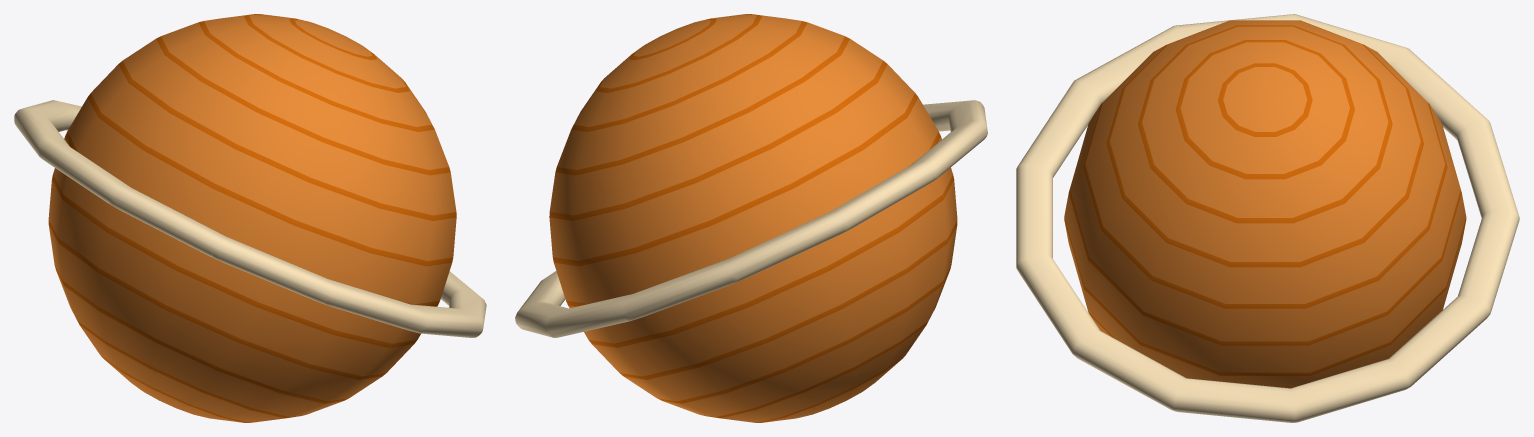
File: Planet.fbx
3 renders of one model, left to right at view 1: azimuth 30°, elevation 25°; view 2: azimuth 150°, elevation 25°; view 3: azimuth 270°, elevation 25°, orthographic.
Parts seen in each view (by area): view 1: Planet; view 2: Planet; view 3: Planet.
Boxes of the visible parts, x1=… form: Planet: x1=14, y1=14, x2=486, y2=422; Planet: x1=515, y1=14, x2=987, y2=422; Planet: x1=1016, y1=14, x2=1519, y2=422.
Bounding box in the file's own units: 0.8106 × 0.7181 × 0.9045.
